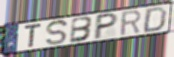B: (68, 15, 95, 44)
D: (142, 6, 169, 34)
P: (92, 12, 120, 41)
R: (120, 8, 143, 37)
S: (46, 19, 69, 46)
T: (24, 22, 43, 49)
